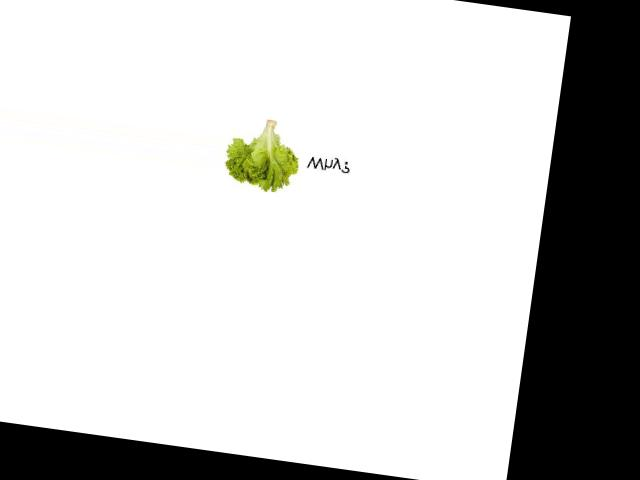lettuce: (219, 113, 311, 196)
